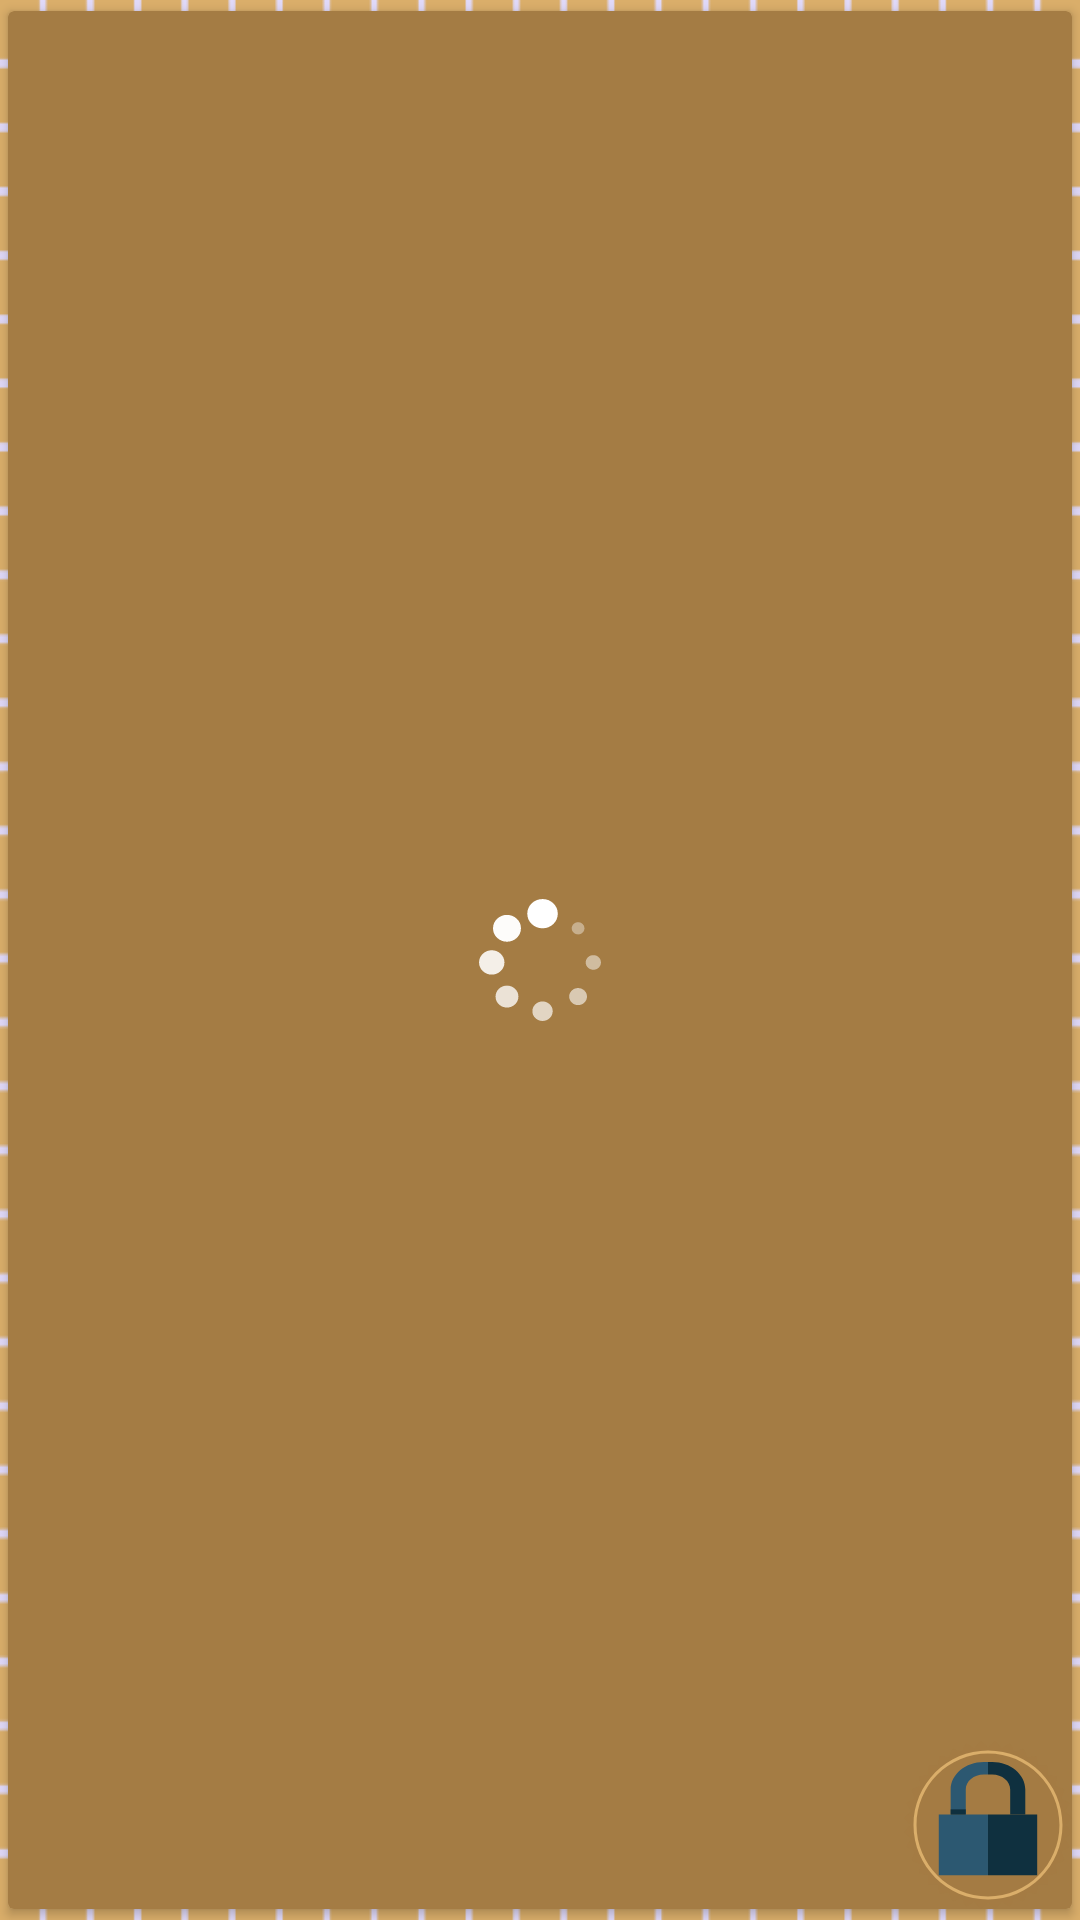

Locate icon controls on the screen. Image size 1080 x 1920, boxes as {"x1": x1, "y1": y1, "x2": x2, "y2": y2}.
lock: {"x1": 913, "y1": 1750, "x2": 1063, "y2": 1900}
